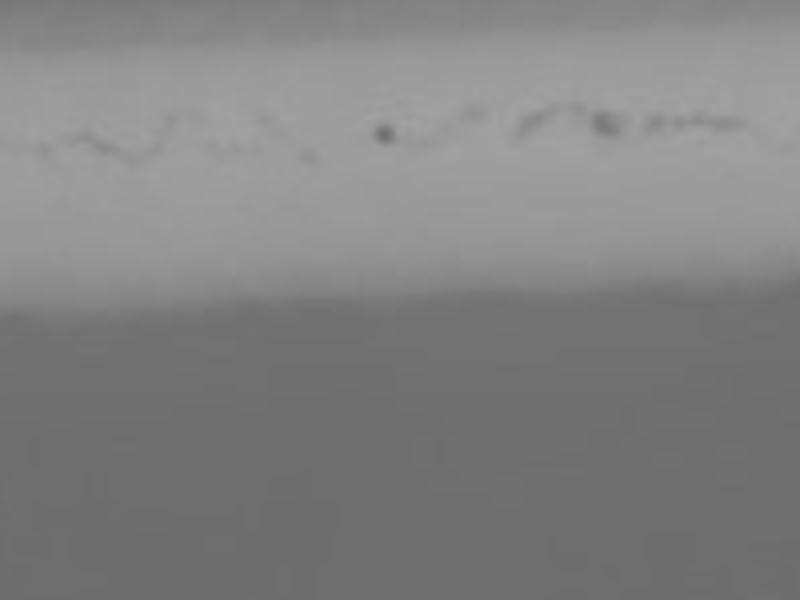defect: (91, 140, 144, 169), (516, 103, 553, 138), (595, 110, 629, 138), (56, 126, 93, 148), (148, 113, 176, 140), (677, 107, 713, 128), (464, 102, 493, 125), (710, 111, 744, 130), (249, 105, 280, 125), (32, 142, 57, 165), (374, 126, 398, 147), (298, 149, 320, 168), (647, 110, 666, 132), (569, 100, 588, 120), (145, 142, 164, 160)
